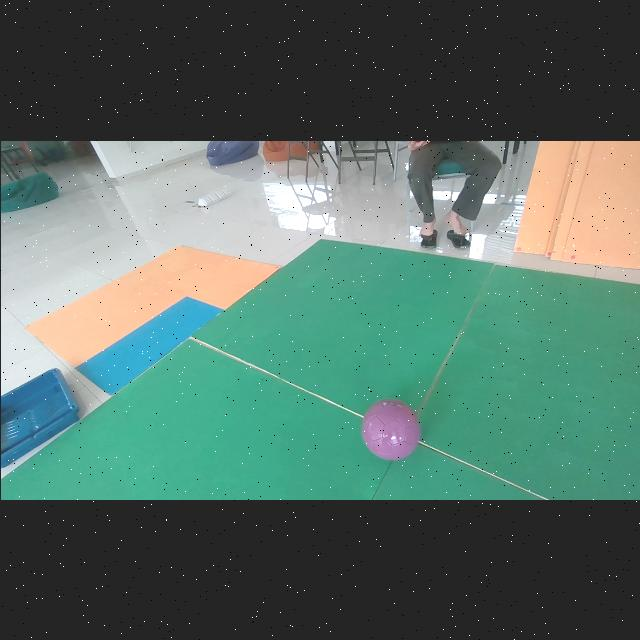P: (361, 398, 420, 459)
